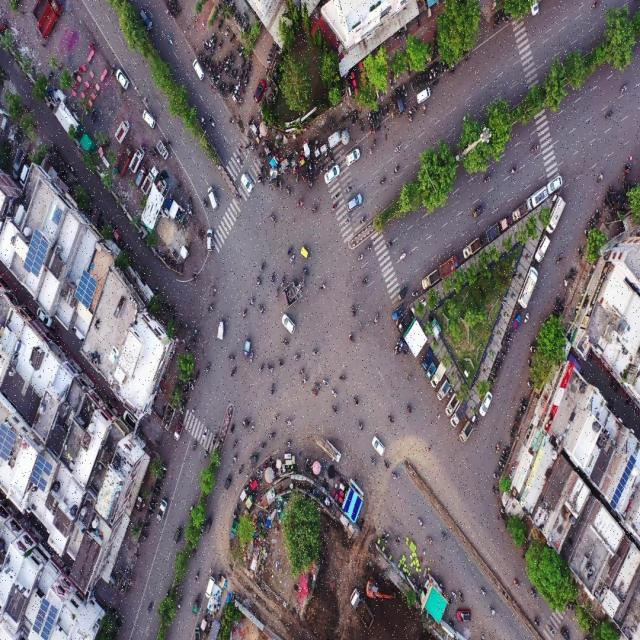3W: (216, 318, 226, 345), (471, 203, 484, 222), (172, 523, 182, 547), (223, 472, 232, 497), (204, 516, 214, 538), (300, 244, 312, 262), (397, 282, 407, 302), (248, 451, 259, 469), (192, 593, 201, 615), (242, 337, 251, 358), (560, 625, 572, 640)
Cars: (279, 312, 299, 336), (138, 5, 154, 33), (535, 235, 551, 262), (117, 64, 131, 93), (207, 182, 220, 212), (547, 173, 564, 195), (139, 109, 158, 128), (204, 227, 216, 257), (253, 79, 268, 103), (347, 192, 363, 214), (479, 391, 493, 416), (372, 430, 384, 458), (324, 164, 339, 186), (345, 148, 361, 168), (454, 608, 474, 624), (392, 86, 403, 115), (192, 58, 205, 82), (239, 172, 252, 195), (416, 87, 431, 104)
LCV: (517, 266, 538, 309), (547, 197, 566, 237), (527, 185, 546, 213), (139, 167, 158, 195), (431, 360, 447, 390), (463, 233, 480, 261), (440, 255, 459, 280), (129, 144, 144, 174), (420, 267, 438, 292), (452, 400, 468, 427), (458, 421, 475, 444), (326, 442, 343, 465), (398, 310, 414, 334), (116, 118, 131, 143), (511, 203, 530, 221), (156, 139, 173, 159), (420, 349, 434, 371), (172, 419, 184, 444), (446, 394, 459, 417), (157, 496, 167, 524), (328, 131, 342, 150), (392, 304, 405, 322), (512, 312, 522, 334), (399, 339, 408, 355)
M2W: (143, 601, 154, 621), (439, 529, 451, 545), (602, 109, 614, 123), (255, 362, 266, 377), (372, 310, 380, 330), (528, 143, 540, 156), (347, 330, 356, 346), (390, 468, 399, 484), (200, 196, 209, 212), (619, 81, 630, 94), (319, 279, 326, 299), (311, 344, 319, 361), (360, 275, 368, 292), (555, 251, 564, 266), (295, 198, 305, 211), (227, 353, 237, 366), (406, 401, 413, 419), (456, 590, 465, 604), (489, 606, 498, 620), (512, 578, 521, 592), (279, 339, 290, 350), (337, 371, 347, 383), (364, 243, 374, 255), (259, 261, 267, 276), (211, 430, 219, 445), (194, 567, 201, 584), (176, 597, 183, 614), (357, 420, 366, 433), (368, 453, 377, 466), (392, 163, 401, 176), (232, 438, 241, 451), (483, 173, 492, 186), (508, 164, 517, 177), (595, 171, 604, 184), (528, 587, 537, 600), (269, 271, 276, 287), (230, 365, 238, 379), (205, 360, 212, 376), (166, 32, 174, 46), (108, 62, 115, 78), (192, 269, 199, 285), (191, 439, 198, 455), (523, 311, 531, 325), (590, 0, 600, 11), (382, 459, 391, 471), (398, 250, 407, 262), (386, 240, 395, 252), (269, 212, 278, 224), (273, 287, 282, 299), (297, 366, 306, 378), (240, 307, 249, 319), (207, 301, 216, 313), (417, 516, 424, 531), (352, 394, 359, 409), (350, 303, 357, 318), (258, 302, 265, 317), (330, 388, 338, 401), (302, 266, 310, 279), (266, 363, 274, 376), (248, 295, 256, 308), (248, 422, 256, 435), (360, 214, 368, 227), (547, 622, 555, 635), (494, 443, 502, 456), (241, 413, 247, 430), (203, 424, 209, 441), (321, 378, 331, 388), (310, 204, 320, 214), (387, 415, 396, 426), (393, 143, 402, 154), (291, 352, 300, 363), (284, 438, 293, 449), (231, 454, 240, 465), (532, 616, 541, 627), (427, 533, 434, 547), (279, 274, 286, 288), (191, 545, 198, 559), (330, 404, 338, 416), (295, 170, 301, 186), (245, 130, 253, 142), (479, 586, 486, 599), (274, 410, 281, 423), (302, 374, 309, 387), (188, 503, 195, 516), (259, 441, 268, 451), (230, 422, 236, 437), (238, 461, 244, 476), (204, 444, 210, 459), (249, 349, 255, 364), (331, 201, 339, 212), (357, 252, 364, 264), (380, 175, 387, 187), (345, 184, 352, 196), (289, 253, 296, 265), (277, 357, 284, 369), (229, 32, 236, 44), (209, 115, 214, 131), (284, 419, 292, 429), (388, 78, 394, 91), (492, 15, 498, 28), (217, 18, 223, 31), (153, 146, 159, 159), (268, 430, 275, 441), (432, 78, 439, 89), (508, 432, 515, 443), (268, 177, 274, 189), (222, 55, 228, 67), (233, 68, 239, 80), (492, 472, 500, 481), (269, 383, 276, 393), (332, 192, 339, 202), (286, 246, 293, 256), (200, 117, 207, 127), (311, 388, 318, 398), (402, 85, 407, 99), (320, 162, 325, 176), (196, 50, 203, 60), (521, 396, 528, 406), (224, 25, 230, 36), (241, 59, 247, 70), (222, 82, 228, 93), (513, 417, 519, 428), (301, 171, 306, 184), (313, 382, 321, 390), (448, 69, 456, 77), (443, 58, 447, 74), (279, 177, 283, 193), (275, 175, 279, 191), (344, 216, 351, 225), (144, 521, 151, 530), (514, 411, 521, 420), (510, 424, 517, 433), (351, 114, 355, 129), (377, 119, 382, 131), (385, 104, 389, 119), (440, 61, 444, 76), (309, 162, 313, 177), (245, 142, 251, 152), (247, 116, 253, 126), (218, 39, 224, 49), (212, 37, 218, 47), (206, 57, 211, 69), (228, 51, 233, 63), (240, 84, 245, 96), (195, 369, 200, 381), (257, 274, 261, 288), (368, 110, 372, 124), (307, 170, 311, 184), (260, 160, 264, 174), (237, 76, 241, 90), (520, 402, 527, 410), (519, 407, 526, 415), (409, 78, 414, 89), (218, 80, 223, 91), (217, 2, 223, 11), (203, 42, 209, 51), (148, 150, 154, 159), (414, 76, 418, 89), (505, 13, 510, 23), (210, 33, 215, 43), (210, 46, 215, 56), (228, 69, 233, 79), (216, 75, 221, 85), (141, 533, 148, 540), (148, 511, 155, 518), (499, 351, 506, 358), (503, 345, 510, 352), (496, 356, 503, 363), (359, 120, 363, 132), (390, 94, 394, 106), (381, 107, 385, 119), (426, 73, 430, 85), (436, 63, 439, 79), (286, 185, 290, 197), (248, 62, 252, 74), (232, 55, 236, 67), (240, 70, 244, 82), (240, 45, 244, 56), (202, 55, 206, 66), (216, 61, 220, 72), (244, 77, 248, 88), (498, 12, 501, 26), (258, 153, 264, 160), (236, 157, 242, 164), (150, 500, 156, 507), (148, 505, 155, 511), (153, 490, 159, 497), (496, 468, 503, 474), (503, 449, 509, 456), (527, 381, 533, 388), (494, 363, 500, 370), (372, 123, 376, 133), (373, 114, 377, 124), (264, 170, 268, 180), (225, 61, 229, 71), (354, 112, 357, 125), (377, 104, 380, 116), (419, 75, 422, 87), (206, 40, 212, 46), (220, 66, 224, 75), (498, 461, 504, 467), (423, 74, 426, 85)
Truck: (347, 588, 377, 634), (36, 0, 64, 37)
